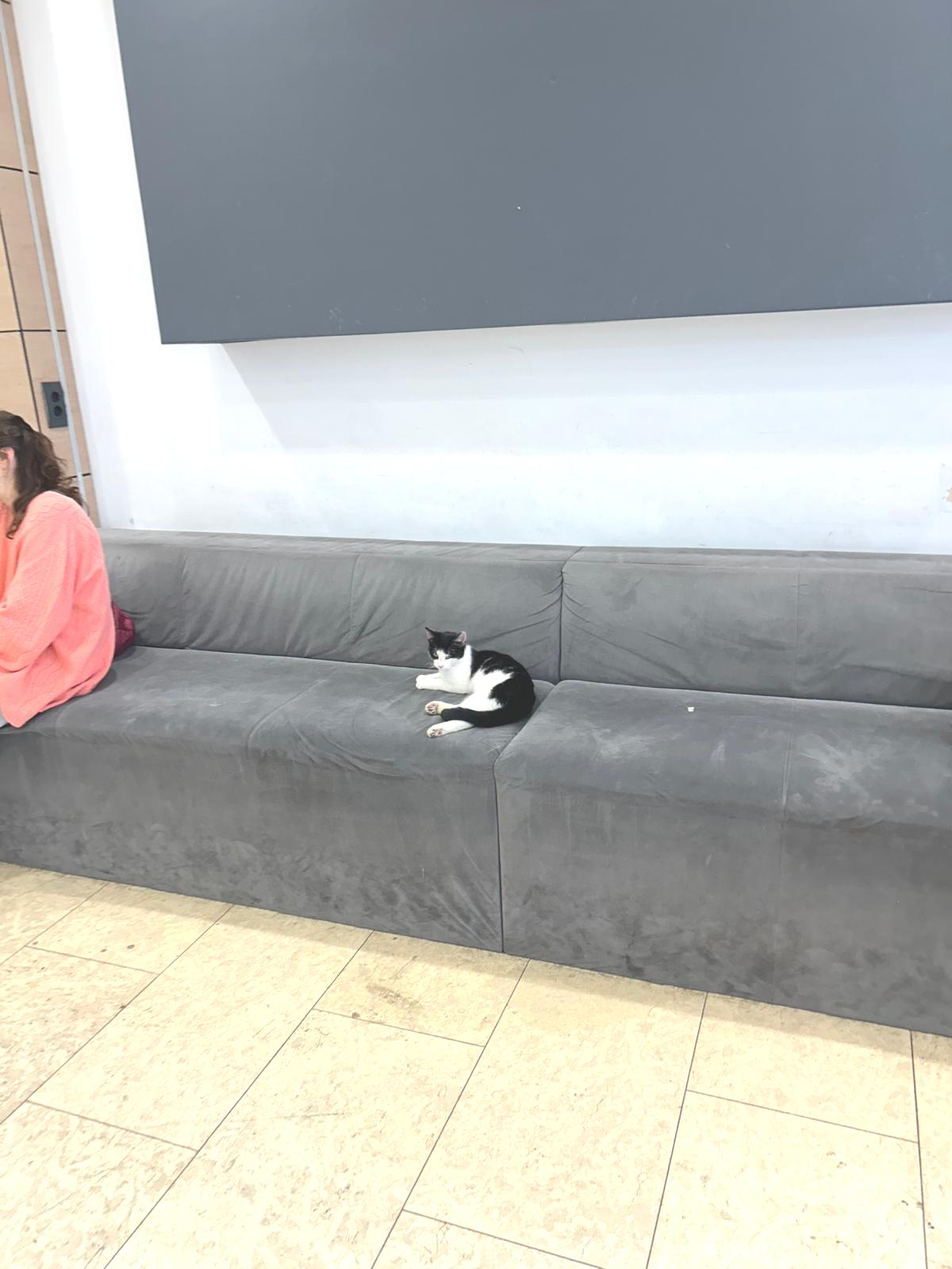macka: (416, 627, 538, 738)
